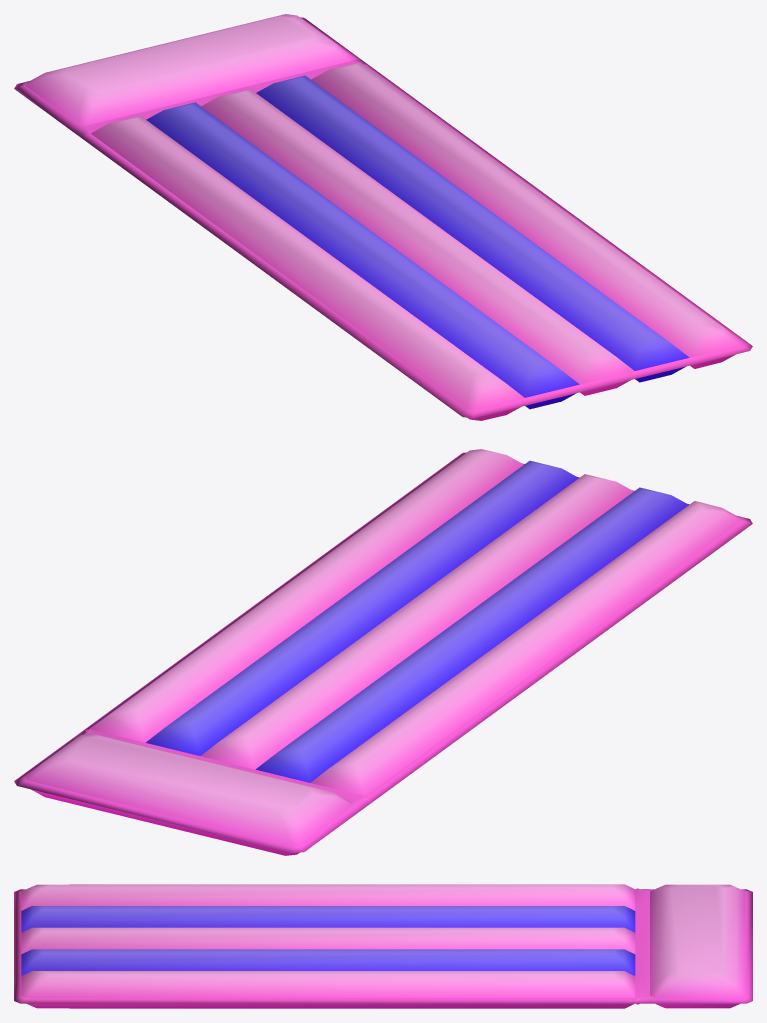
File: Mattress_Stripes_F.fbx
3 views of the same model, one above another, from view 1: azimuth 30°, elevation 25°; view 2: azimuth 150°, elevation 25°; view 3: azimuth 270°, elevation 25° (orthographic). The views are drawn at different scales.
Parts seen in each view (by area): view 1: Mattress_Stripes_F; view 2: Mattress_Stripes_F; view 3: Mattress_Stripes_F.
Boxes of the visible parts, x1,y1,x2,y2 form: Mattress_Stripes_F: (14, 14, 752, 420); Mattress_Stripes_F: (14, 449, 752, 855); Mattress_Stripes_F: (14, 884, 752, 1008).
Size of the model in its own units: 79.6 by 10.83 by 217.
